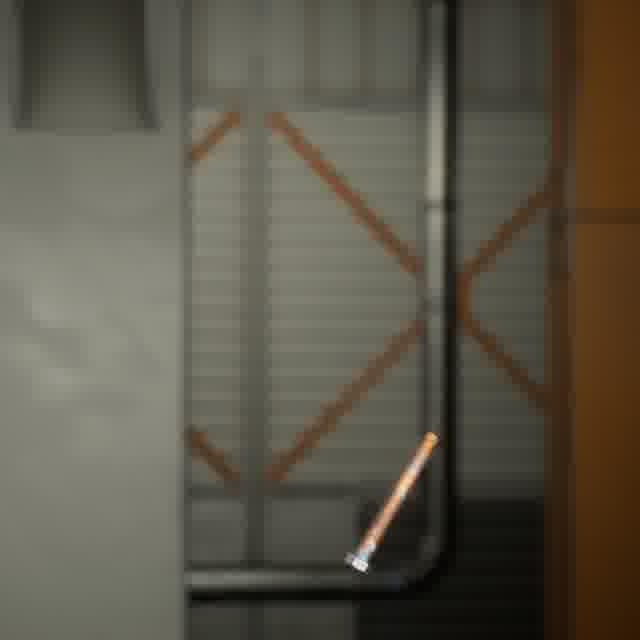bolt: (339, 427, 443, 579)
